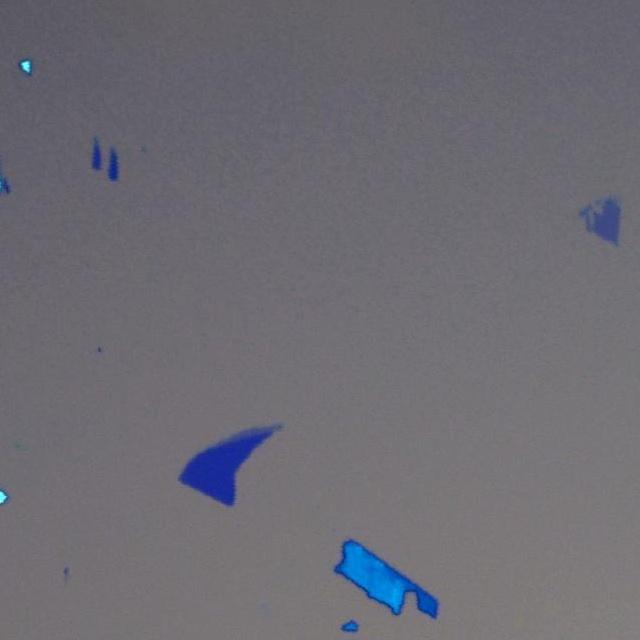monolayer-eWW4: (590, 197, 623, 245), (216, 424, 277, 444)
